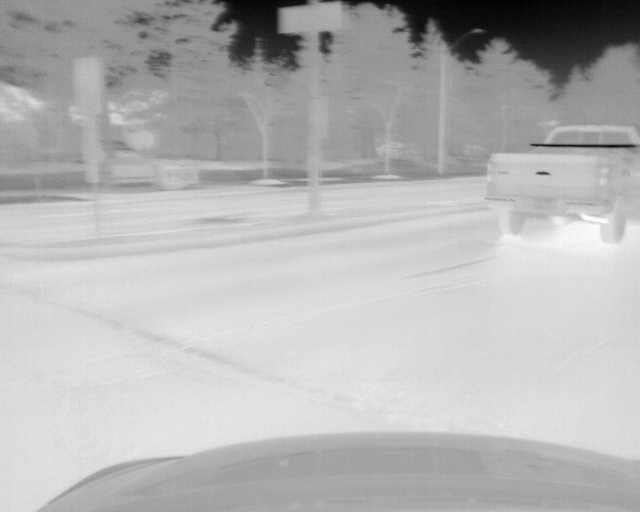car: (485, 125, 640, 245)
